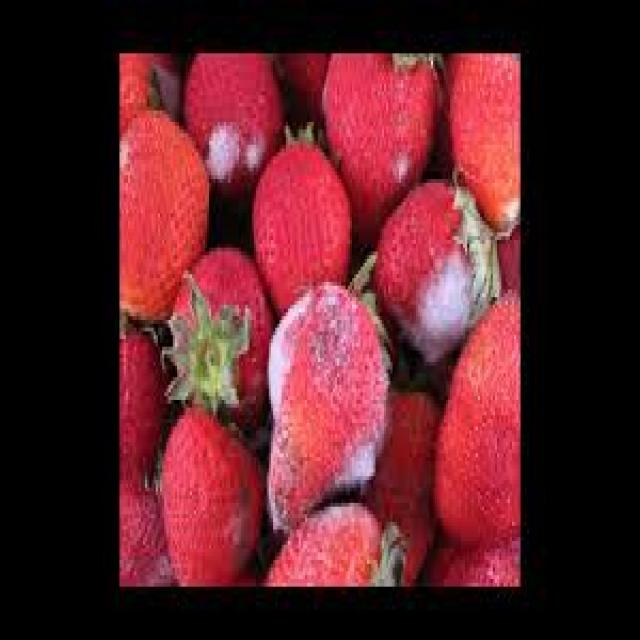food_waste: (119, 53, 521, 591)
